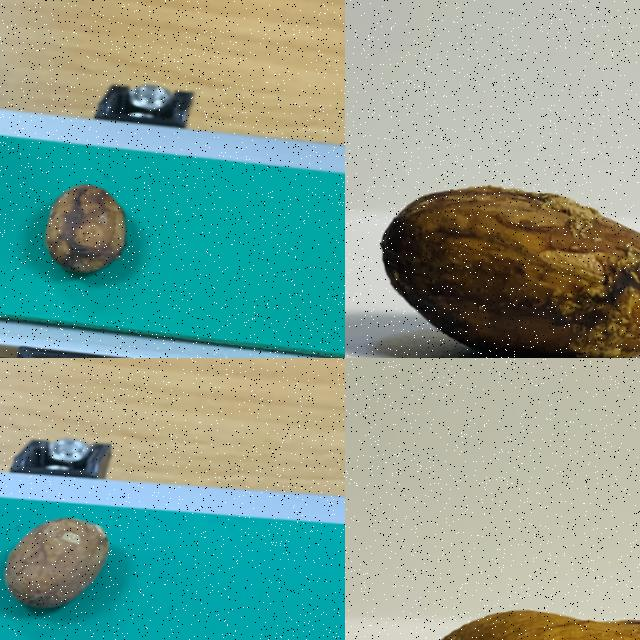Agglomerated_cocoabeans: (345, 500, 639, 639)
Fine_cocoabeans: (345, 140, 639, 357), (0, 159, 204, 317), (0, 496, 184, 639)
